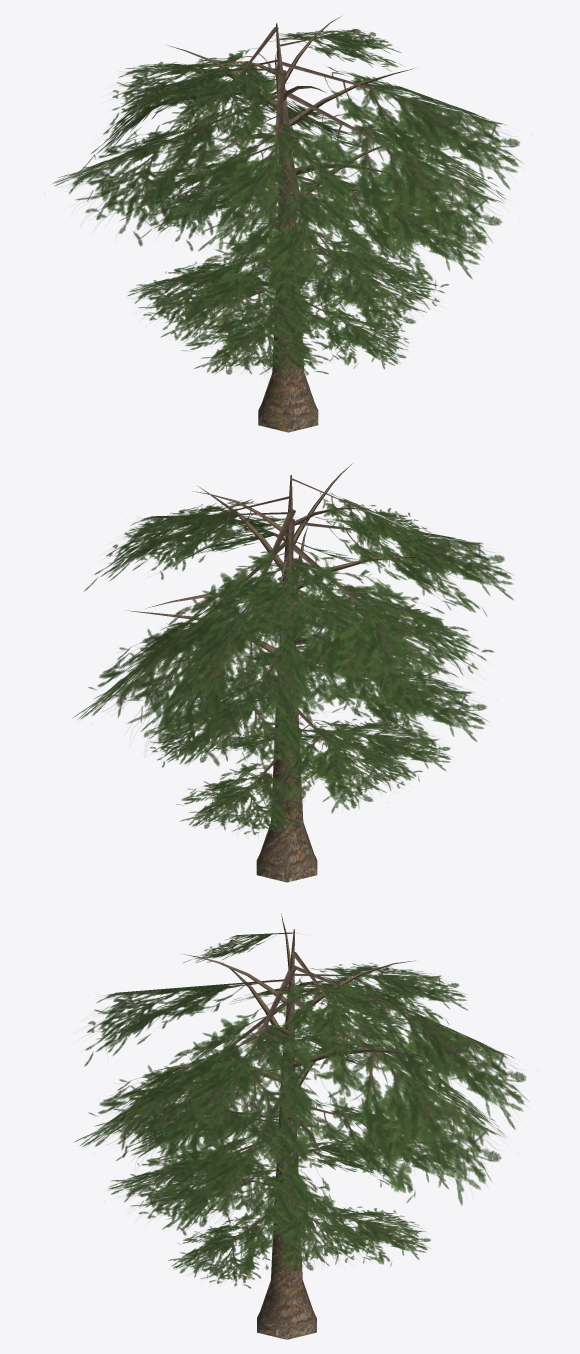
Rendered from cypress.glb.
The picture shows the model from 3 angles, top to bottom: view 1: azimuth 30°, elevation 25°; view 2: azimuth 150°, elevation 25°; view 3: azimuth 270°, elevation 25°; orthographic projection.
Visible parts, largest first — view 1: canopy, tree; view 2: canopy, tree; view 3: canopy, tree.
Boxes of the visible parts, x1,y1,x2,y2 form: canopy: [53, 27, 521, 376]; tree: [151, 15, 414, 432]; canopy: [72, 478, 513, 836]; tree: [125, 463, 427, 882]; canopy: [73, 932, 527, 1288]; tree: [150, 913, 437, 1339].
Bounding box in the file's own units: 33.62 × 26.44 × 33.76.
Materials: 2 (2 with a texture image).
